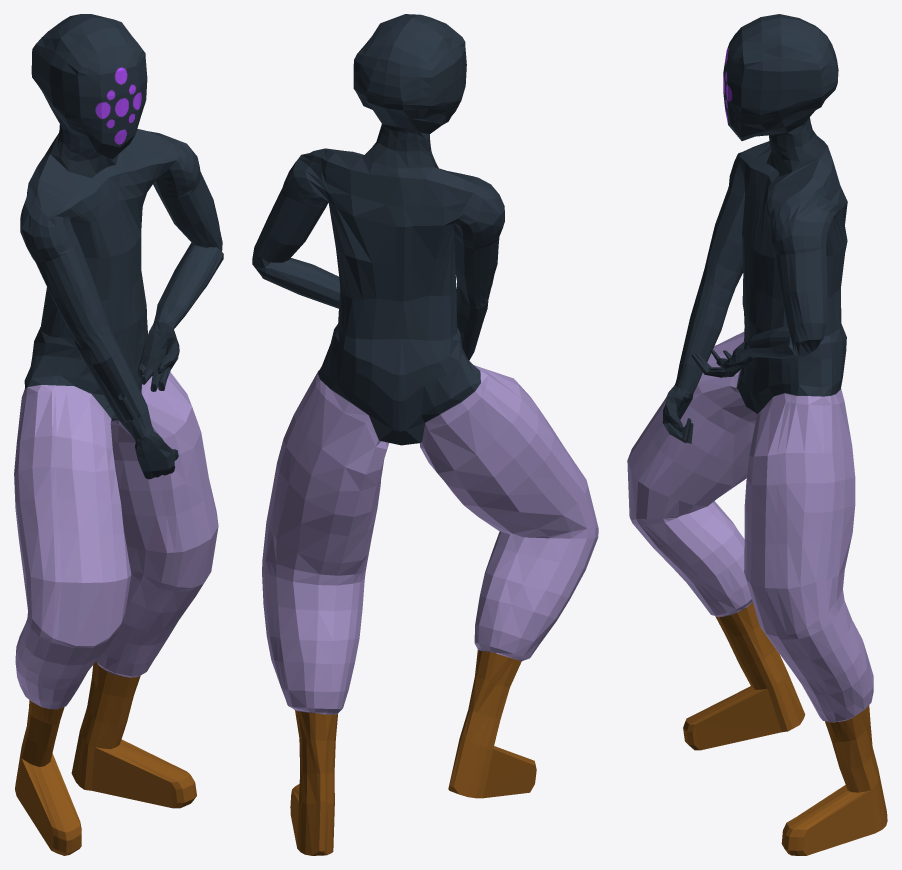
The model's file is Oracle_WR_000009.obj.
3 views of the same model, side by side, from view 1: azimuth 30°, elevation 25°; view 2: azimuth 150°, elevation 25°; view 3: azimuth 270°, elevation 25° (orthographic). The views are drawn at different scales.
Parts seen in each view (by area): view 1: Cube; view 2: Cube; view 3: Cube.
Part boxes in pixels (x1,y1,x2,y2): Cube: (14,14,223,855); Cube: (252,14,598,855); Cube: (627,14,887,855).
Bounding box in the file's own units: 1.3 × 3.84 × 1.15.
